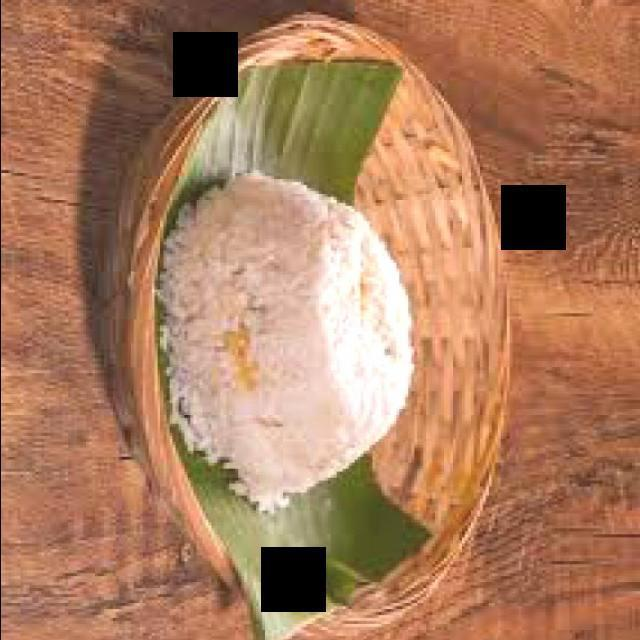Chicken -Chicken Inasal-: (164, 173, 411, 507)
